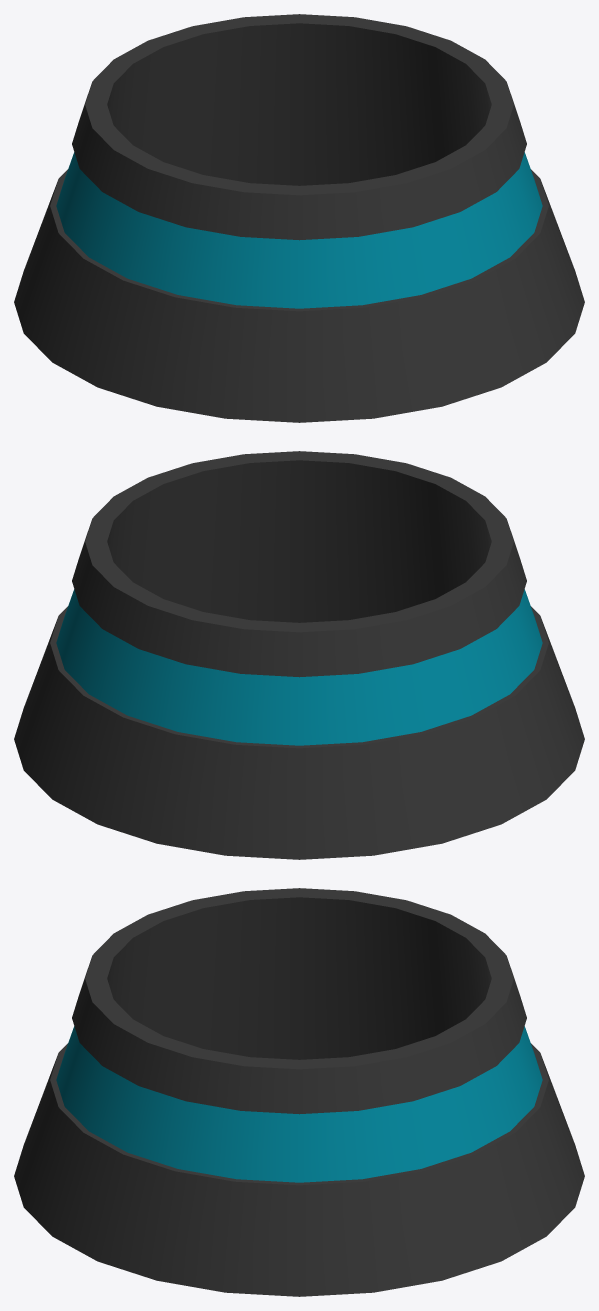
File: BatteryReceptacle.fbx
3 renders of one model, top to bottom at view 1: azimuth 30°, elevation 25°; view 2: azimuth 150°, elevation 25°; view 3: azimuth 270°, elevation 25°, orthographic.
Parts seen in each view (by area): view 1: Sphere003; view 2: Sphere003; view 3: Sphere003.
Part boxes in pixels (<box>): Sphere003: <box>14,14,584,422</box>; Sphere003: <box>14,451,584,859</box>; Sphere003: <box>14,888,584,1296</box>.
Size of the model in its own units: 36.65 by 14 by 36.65.
